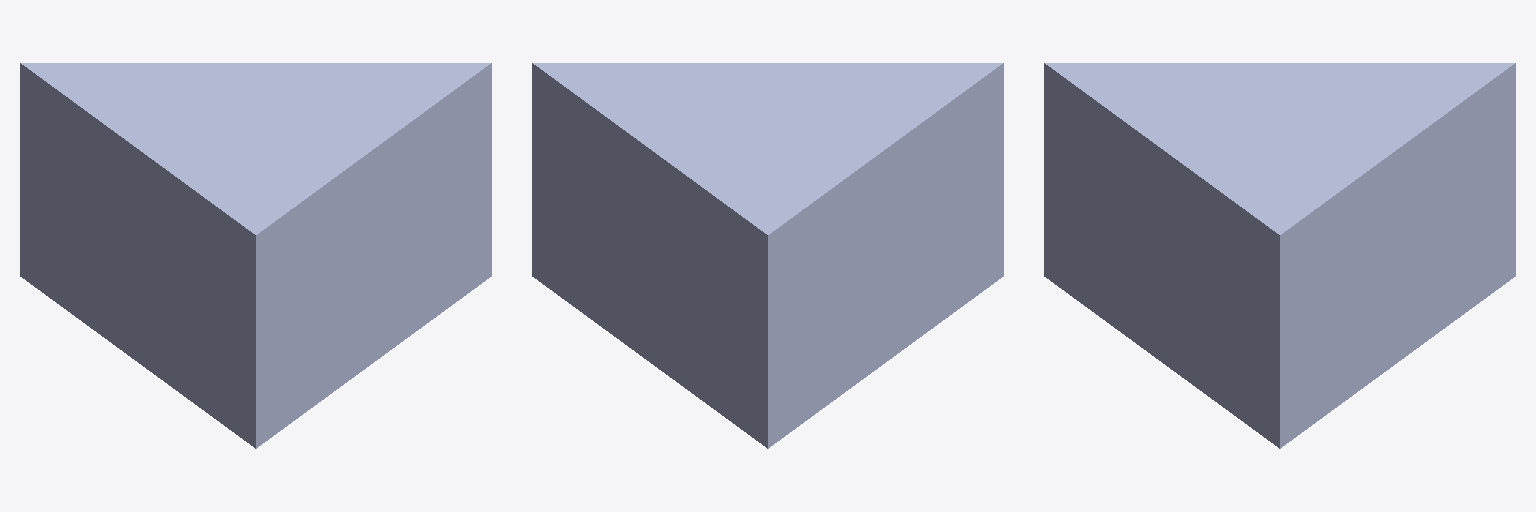
URDF robot description (triangle):
<robot
  name="triangle">
  <link
    name="triangle">
    <inertial>
      <origin
        xyz="7.8246E-17 -1.34209242057722E-16 0.025"
        rpy="0 0 0" />
      <mass
        value="0.21651" />
      <inertia
        ixx="0.000135316469341318"
        ixy="-4.37294559109886E-19"
        ixz="6.61744490042419E-21"
        iyy="0.000135316469341318"
        iyz="4.75540954157511E-21"
        izz="0.000180421959121757" />
    </inertial>
    <visual>
      <origin
        xyz="0 0 0"
        rpy="1.5707963267949 0 0" />
      <geometry>
        <mesh
          filename="package://sawyer_gazebo_env/models/triangle/triangle.STL" />
      </geometry>
      <material
        name="">
        <color
          rgba="0.79216 0.81961 0.93333 1" />
      </material>
    </visual>
    <collision>
      <origin
        xyz="0 0 0"
        rpy="1.5707963267949 0 0" />
      <geometry>
        <mesh
          filename="package://sawyer_gazebo_env/models/triangle/triangle.STL" />
      </geometry>
    </collision>
  </link>
</robot>

--- What the picture shows (computed from the rendered views, not written in the file) ---
The picture shows the robot from 3 angles, left to right: view 1: azimuth 30°, elevation 25°; view 2: azimuth 150°, elevation 25°; view 3: azimuth 270°, elevation 25°; orthographic projection.
Model triangle with 1 links and 0 joints (none), rooted at triangle, posed all joints at 0.
Links seen in each view (by area): view 1: triangle; view 2: triangle; view 3: triangle.
Link boxes in pixels (box(x1,y1,x2,y2)): triangle: box(20, 63, 491, 448); triangle: box(532, 63, 1003, 448); triangle: box(1044, 63, 1515, 448).
Bounding box of the posed robot: 0.0866 × 0.1 × 0.05 m (x, y, z).
1 mesh visuals loaded from 1 distinct referenced files (1 binary STL).